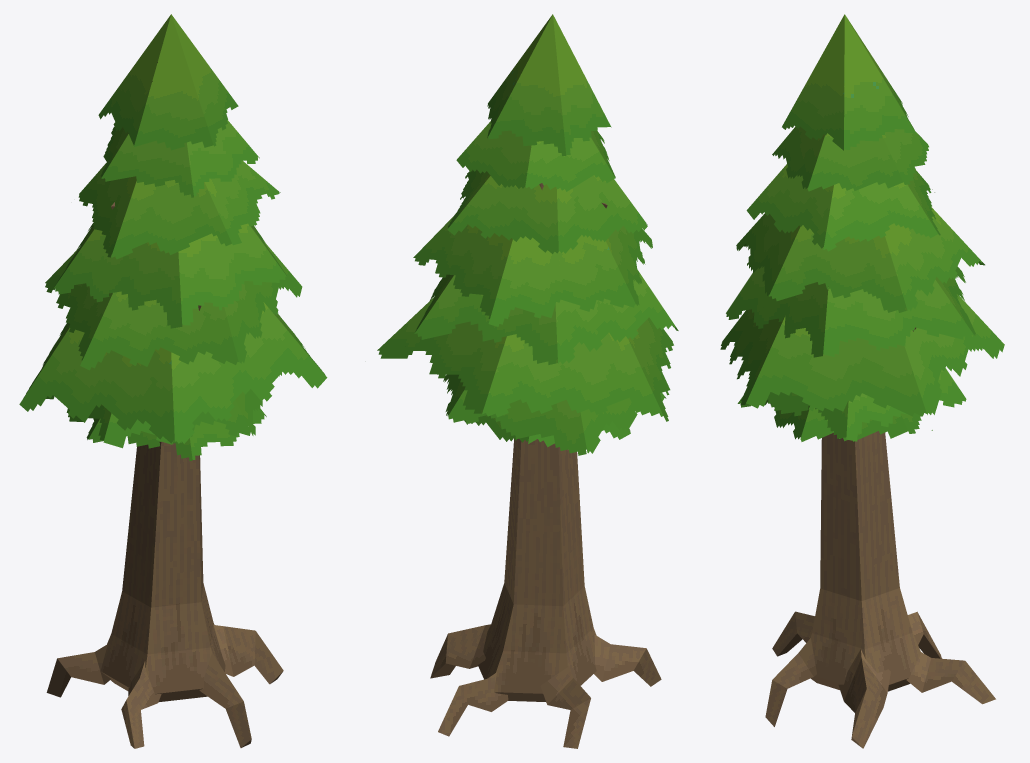
The model's file is f.nto tree 3.gltf.
3 views of the same model, side by side, from view 1: azimuth 30°, elevation 25°; view 2: azimuth 150°, elevation 25°; view 3: azimuth 270°, elevation 25° (orthographic). The views are drawn at different scales.
Parts seen in each view (by area): view 1: S3; view 2: S3; view 3: S3.
Part boxes in pixels (<box>): S3: <box>19,14,327,748</box>; S3: <box>377,14,678,748</box>; S3: <box>720,14,1004,748</box>.
Size of the model in its own units: 5.04 by 12.06 by 4.78.
1 material, 1 textured.
